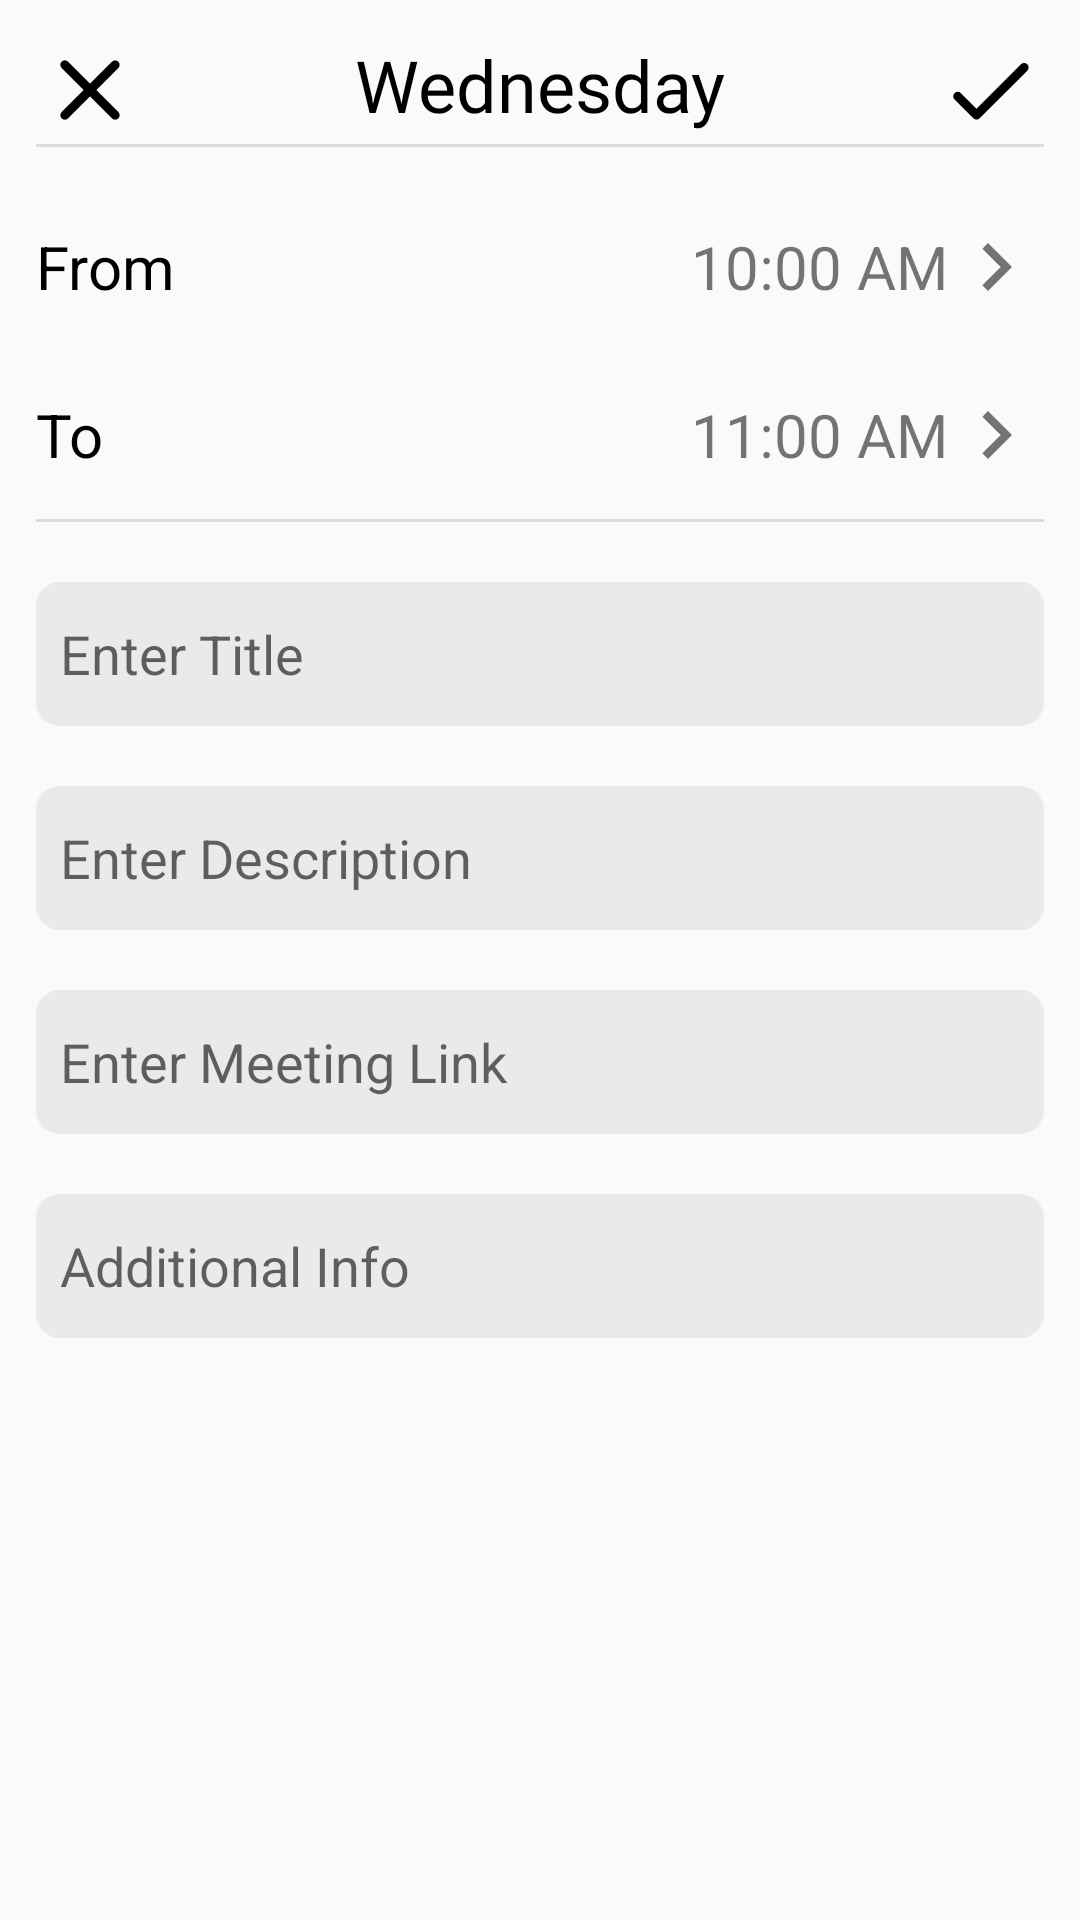

Locate icon controls on the screen. Image size 1080 × 1920, boxes as [x1,y1,x2,y2].
check: [953,63,1029,120]
close: [60,60,120,120]
